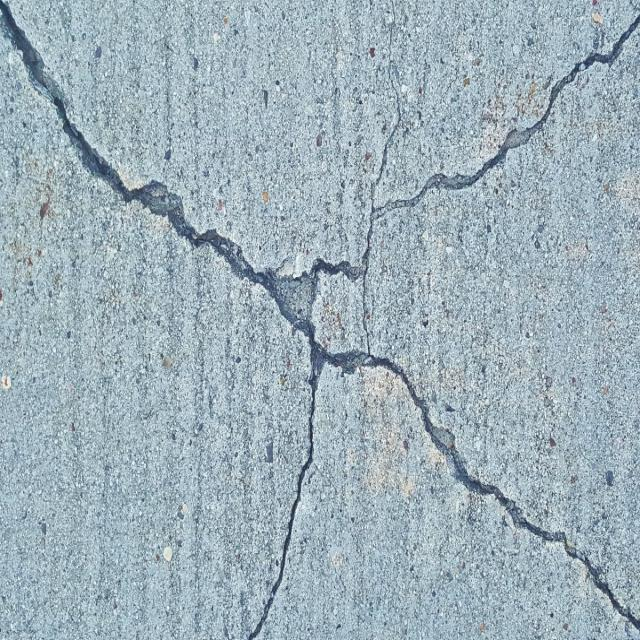Wall_Cracks: (6, 1, 639, 638)
